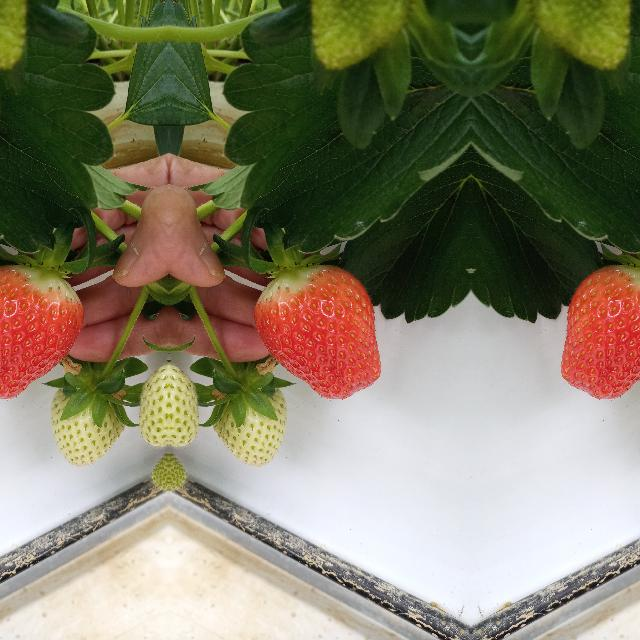Health_100: (252, 264, 382, 400), (0, 264, 83, 400), (559, 264, 640, 400)
Health_25: (210, 376, 286, 472), (50, 376, 126, 472)
